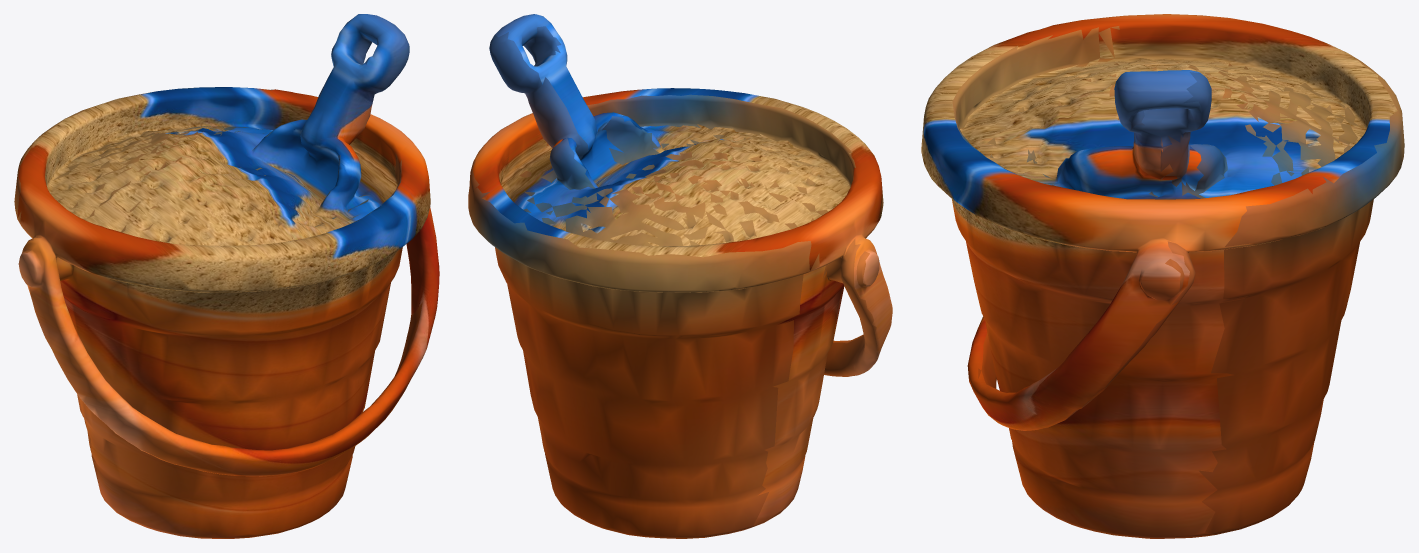
File: bucket.glb
3 views of the same model, side by side, from view 1: azimuth 30°, elevation 25°; view 2: azimuth 150°, elevation 25°; view 3: azimuth 270°, elevation 25° (orthographic). The views are drawn at different scales.
Visible parts, largest first — view 1: bucket; view 2: bucket; view 3: bucket.
Boxes of the visible parts, x1,y1,x2,y2 form: bucket: (14,14,439,538); bucket: (468,14,892,538); bucket: (921,14,1404,538).
Size of the model in its own units: 4.2 by 4.39 by 3.86.
Materials: 1 (1 with a texture image).
